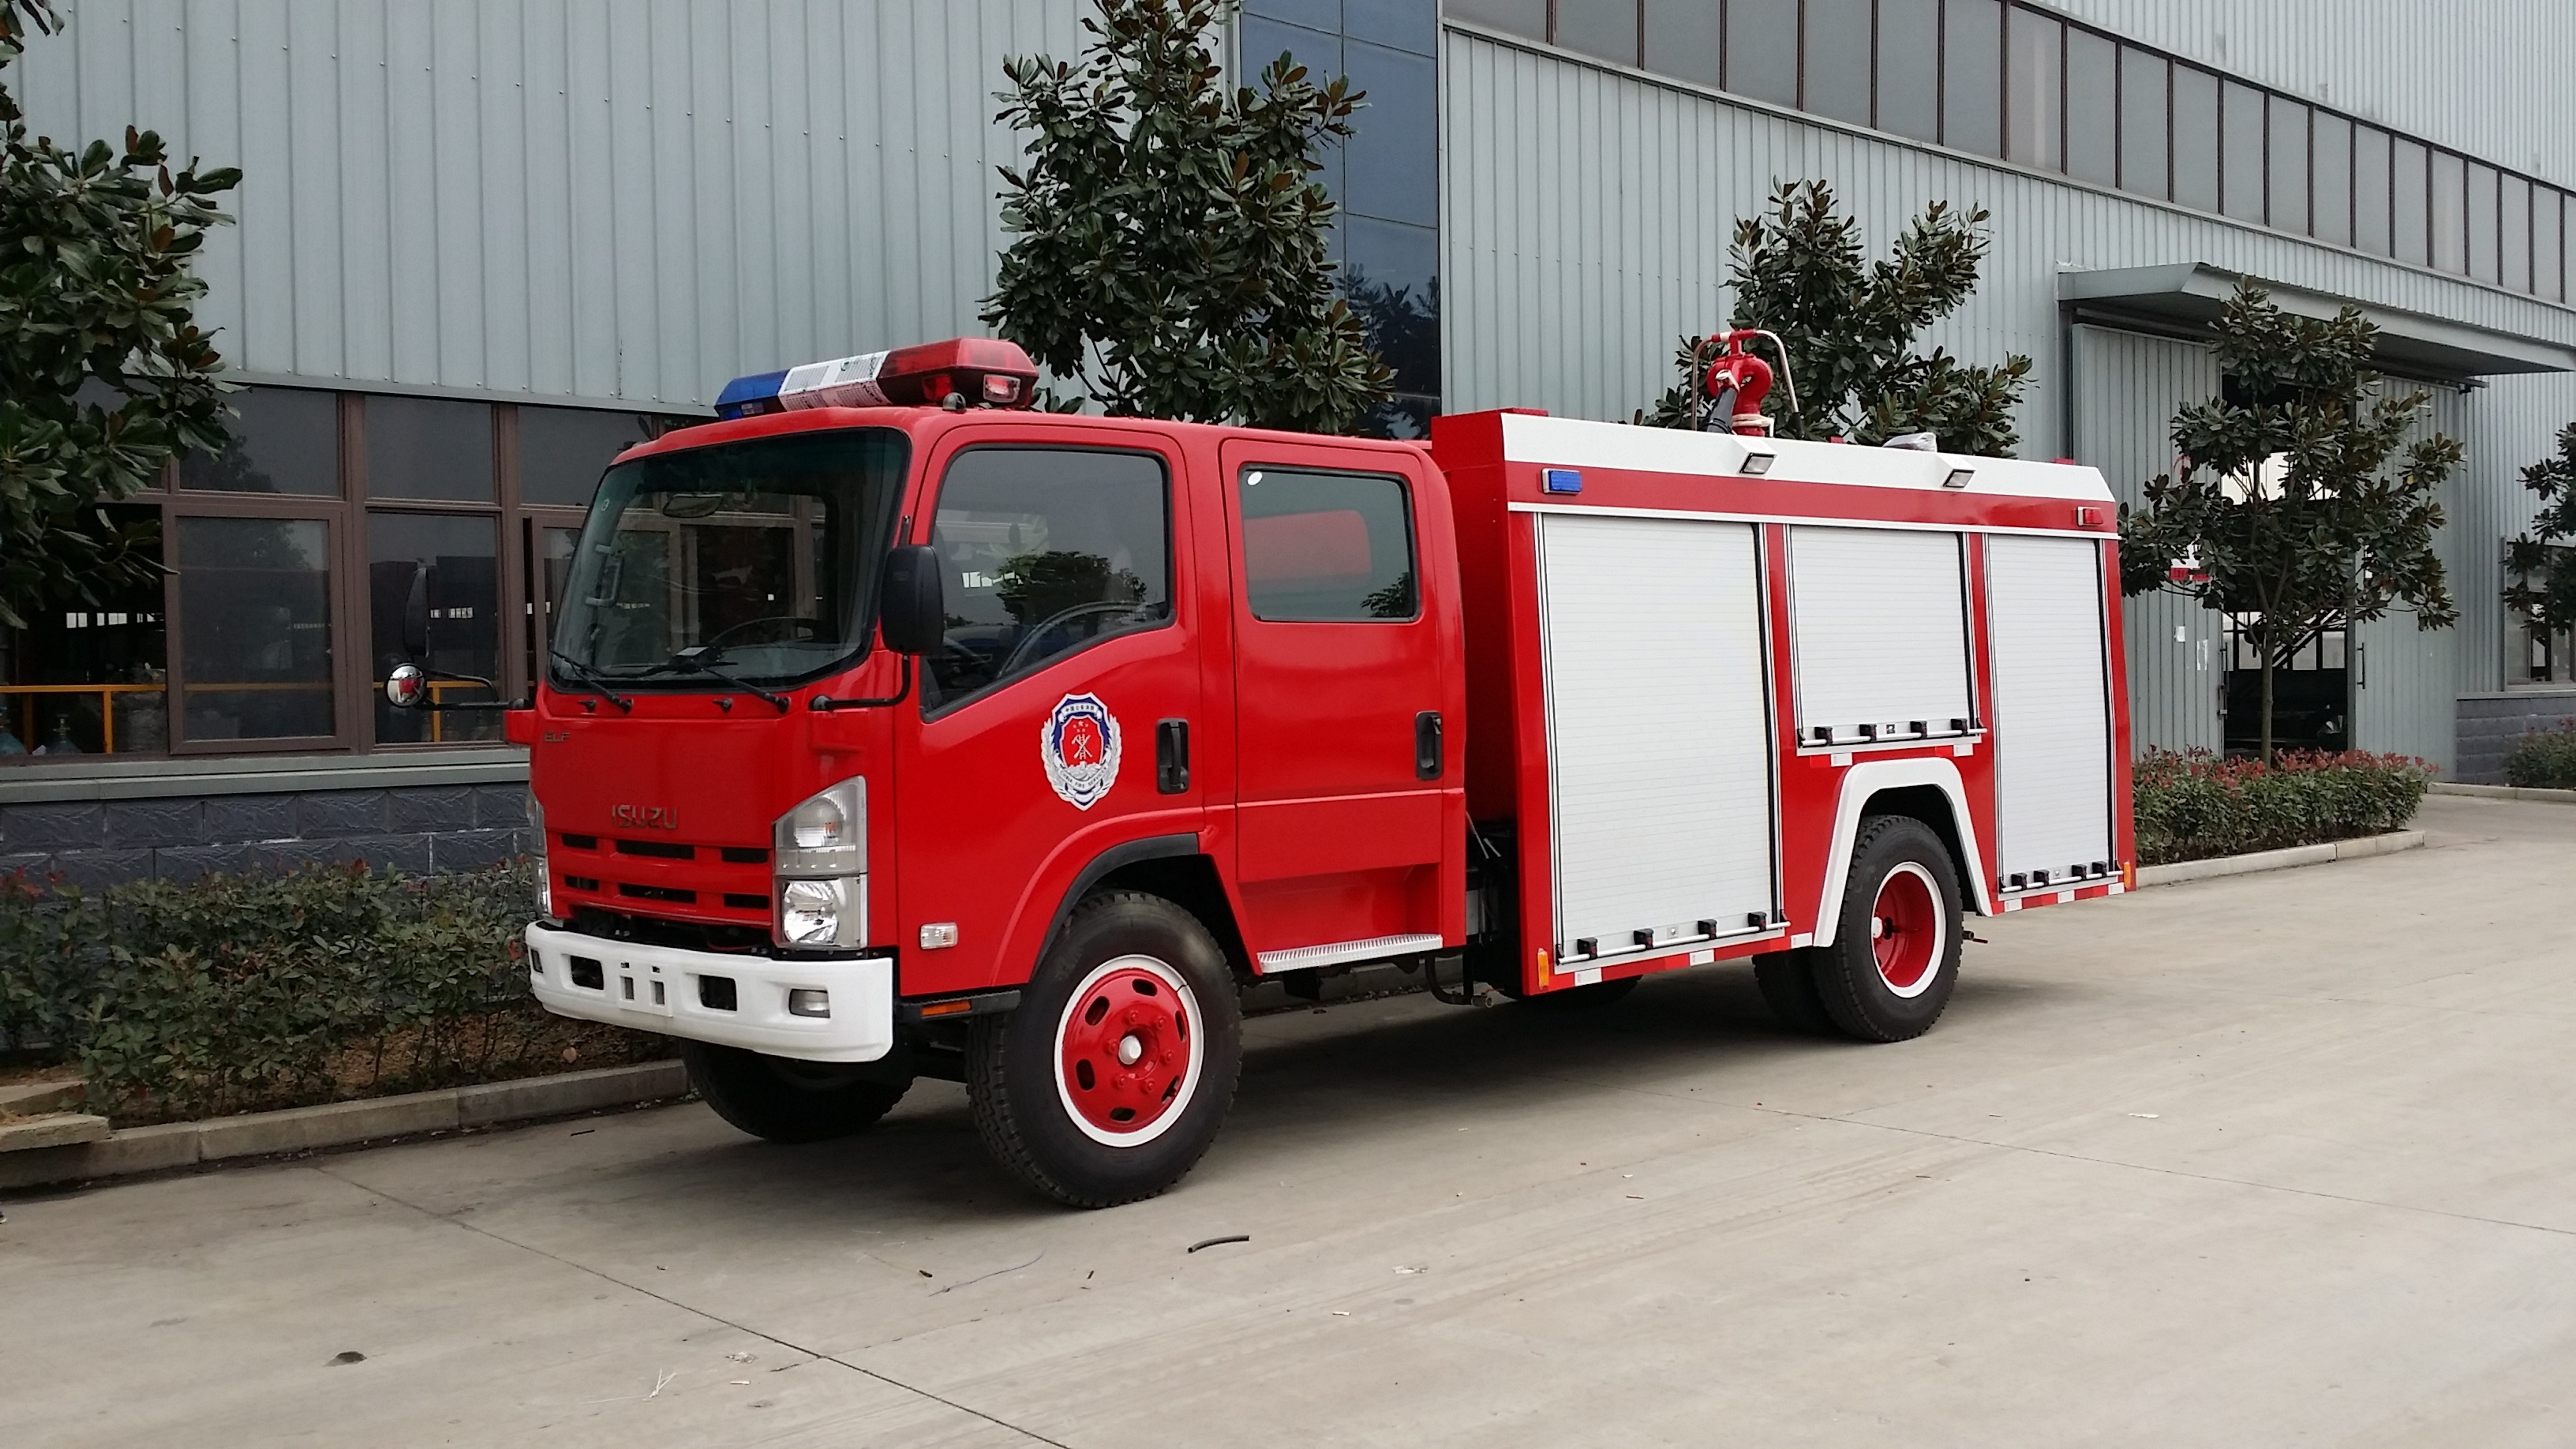heavy truck: (504, 324, 2128, 1150)
